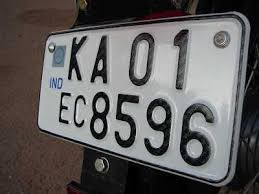doublelinenumberplate: (31, 9, 250, 187)
